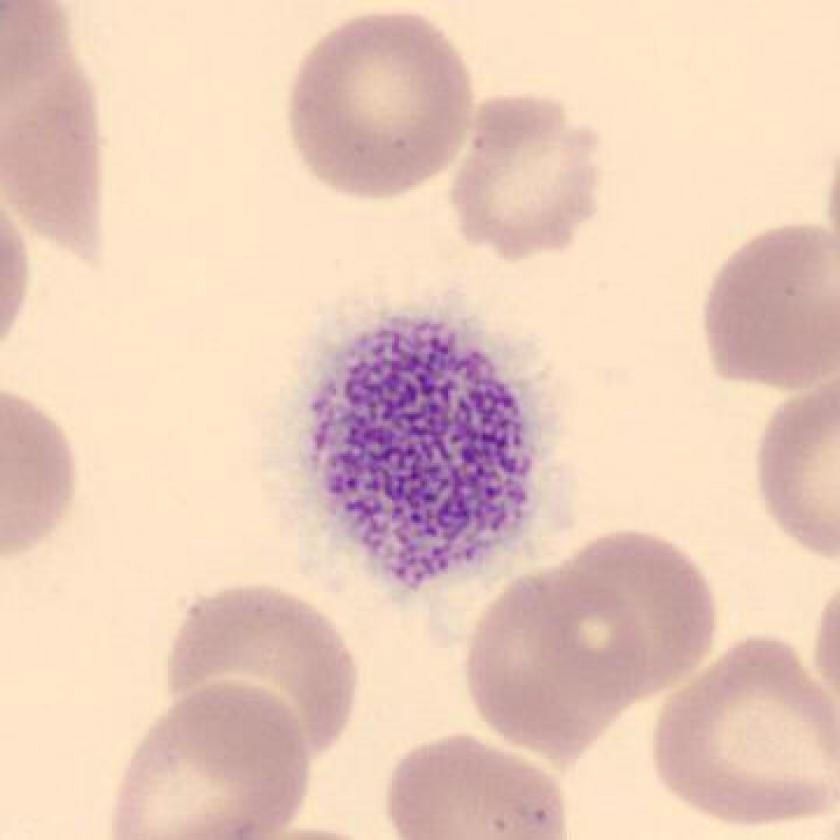platelets: (286, 284, 554, 608)
